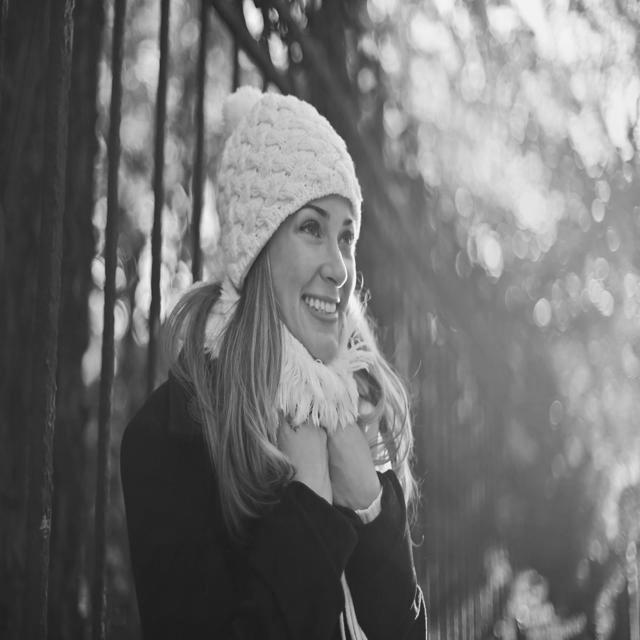Happiness: (265, 188, 368, 367)
